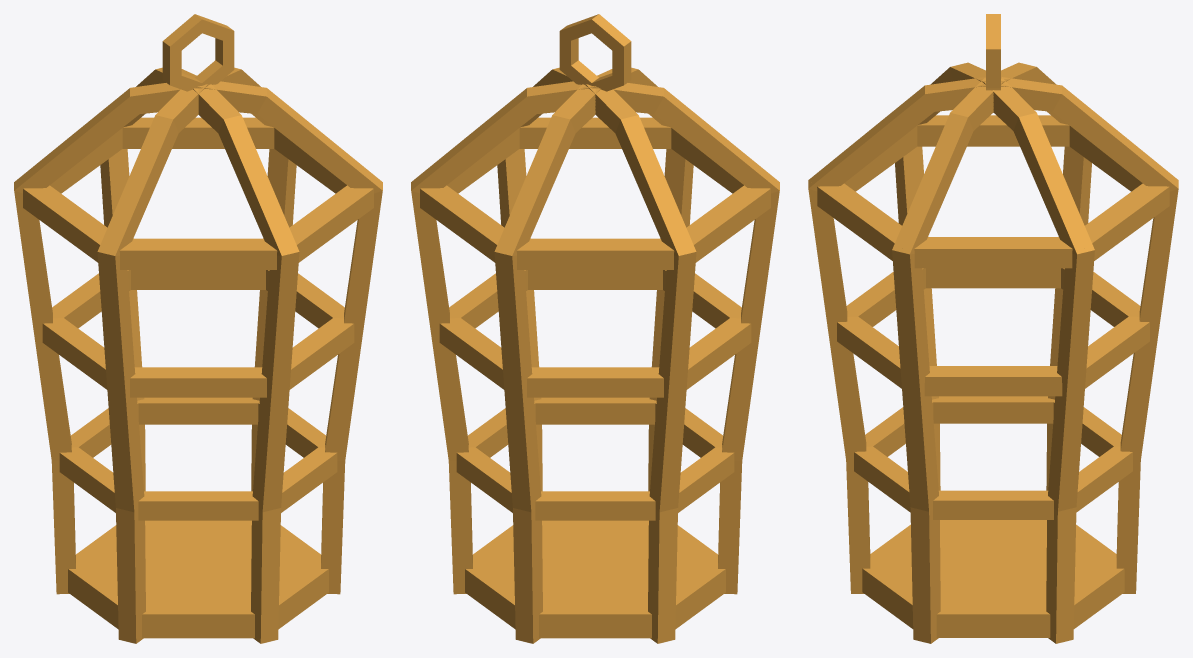
The model's file is pirates-cage-hanging.glb.
3 renders of one model, left to right at view 1: azimuth 30°, elevation 25°; view 2: azimuth 150°, elevation 25°; view 3: azimuth 270°, elevation 25°, orthographic.
Visible parts, largest first — view 1: cage-hanging; view 2: cage-hanging; view 3: cage-hanging.
Part boxes in pixels (left/top/right/bottom): cage-hanging: left=14, top=14, right=382, bottom=643; cage-hanging: left=411, top=14, right=779, bottom=643; cage-hanging: left=808, top=14, right=1178, bottom=643.
Size of the model in its own units: 1.4 by 2.69 by 1.57.
